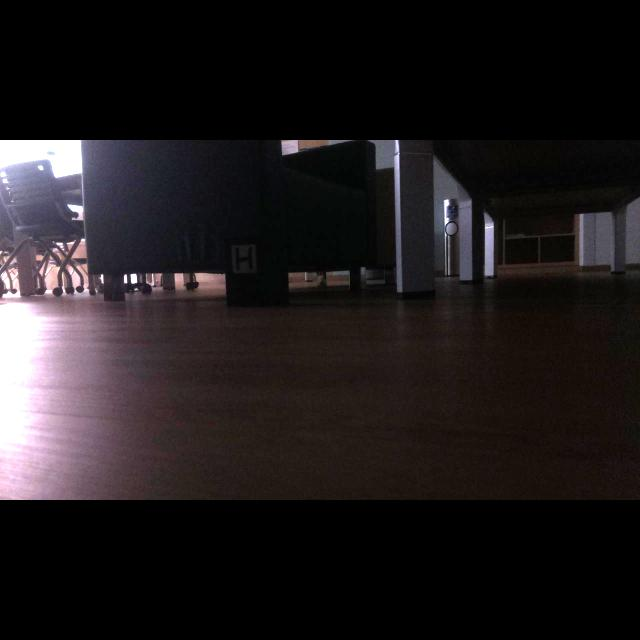H: (236, 246, 253, 271)
